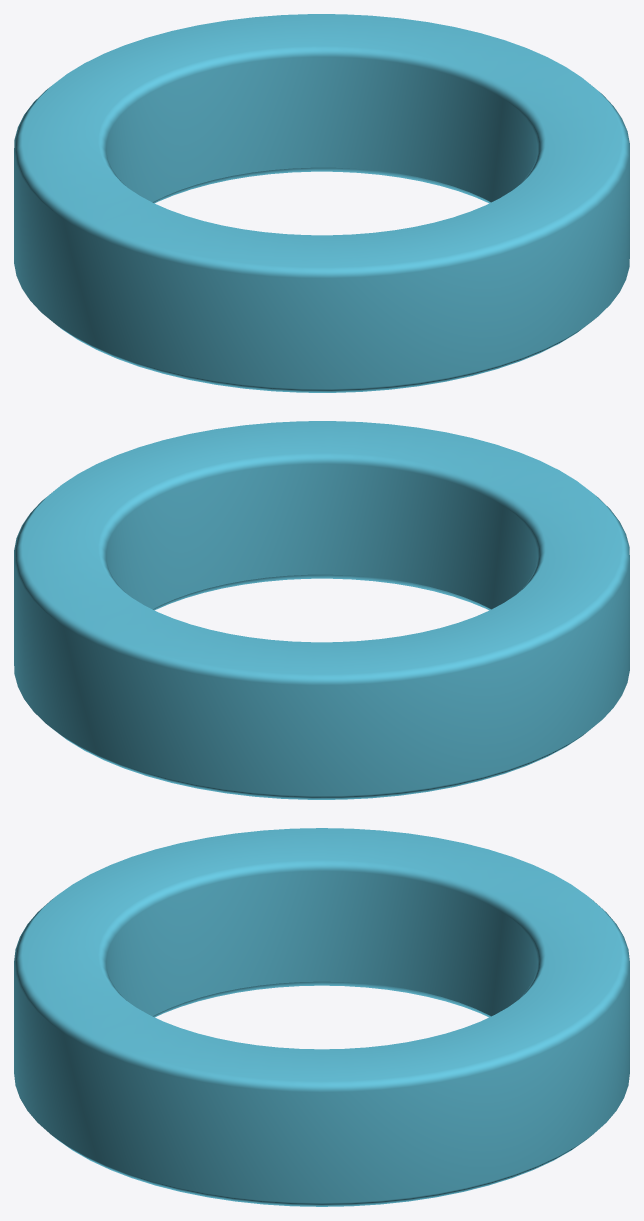
The picture shows the model from 3 angles, top to bottom: view 1: azimuth 30°, elevation 25°; view 2: azimuth 150°, elevation 25°; view 3: azimuth 270°, elevation 25°; orthographic projection.
Parts seen in each view (by area): view 1: seal_body; view 2: seal_body; view 3: seal_body.
Boxes of the visible parts, x1,y1,x2,y2 form: seal_body: (14,14,629,392); seal_body: (14,421,629,799); seal_body: (14,828,629,1206).
Size of the model in its own units: 0.04 by 0.009 by 0.04.
